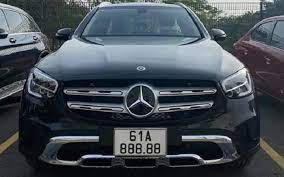Car number plates: (114, 128, 166, 156)
